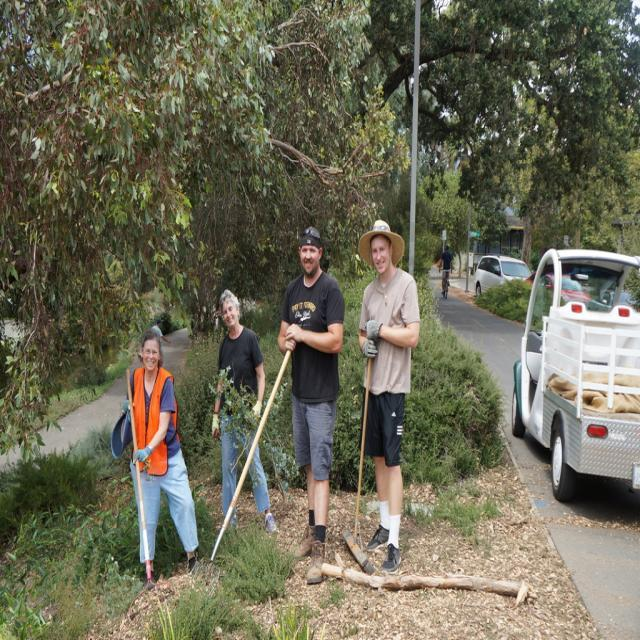person: (276, 222, 346, 586), (354, 214, 425, 572), (122, 318, 203, 581)
